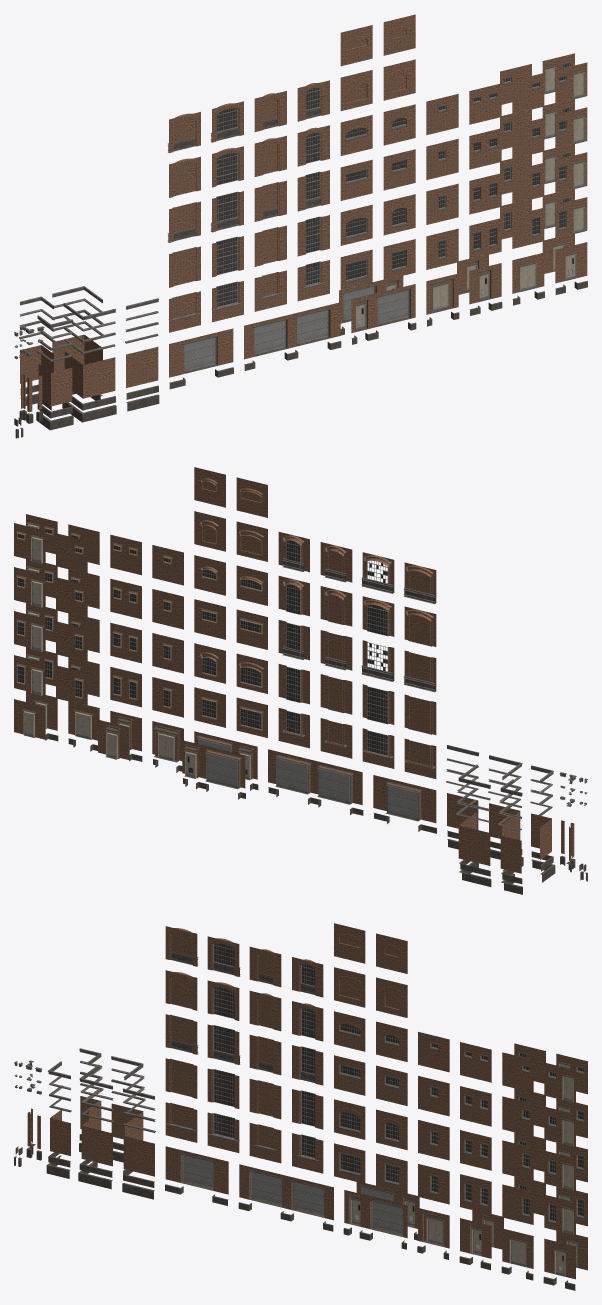
File: modular_factory_facade.glb
The picture shows the model from 3 angles, top to bottom: view 1: azimuth 30°, elevation 25°; view 2: azimuth 150°, elevation 25°; view 3: azimuth 330°, elevation 25°; orthographic projection.
Visible parts, largest first — view 1: door_garage_double_01, wall_standard_corner_large_01, wall_door_garage_double_01, door_garage_door_01, wall_door_garage_centered_01, wall_window_centered_medium_05, wall_window_tall_small_09, wall_standard_standard_01, wall_window_centered_large_05, wall_window_centered_medium_06, wall_window_tall_small_07, wall_window_centered_large_06 (+57 smaller); view 2: door_garage_double_01, door_garage_door_02, wall_door_garage_double_01, wall_door_garage_centered_01, wall_standard_corner_large_02, wall_window_tall_large_09, wall_window_tall_small_09, wall_window_tall_large_07, wall_window_tall_small_07, wall_window_tall_small_06, wall_window_tall_large_06, wall_window_centered_medium_06 (+62 smaller); view 3: door_garage_double_01, wall_door_garage_double_01, door_garage_door_01, wall_door_garage_centered_01, wall_standard_corner_large_01, wall_window_tall_large_09, wall_window_tall_large_07, wall_window_tall_small_07, wall_window_tall_small_09, wall_window_tall_small_06, wall_window_centered_large_05, wall_window_tall_large_06 (+67 smaller).
Boxes of the visible parts, bbox=[...] form: door_garage_double_01: bbox=[253, 307, 331, 356]; wall_standard_corner_large_01: bbox=[64, 352, 115, 398]; wall_door_garage_double_01: bbox=[244, 302, 340, 359]; door_garage_door_01: bbox=[355, 288, 412, 331]; wall_door_garage_centered_01: bbox=[169, 328, 233, 377]; wall_window_centered_medium_05: bbox=[383, 59, 415, 100]; wall_window_tall_small_09: bbox=[254, 135, 286, 176]; wall_standard_standard_01: bbox=[126, 347, 158, 387]; wall_window_centered_large_05: bbox=[340, 70, 372, 110]; wall_window_centered_medium_06: bbox=[383, 14, 415, 55]; wall_window_tall_small_07: bbox=[254, 225, 286, 266]; wall_window_centered_large_06: bbox=[340, 25, 372, 66]; door_garage_double_01: bbox=[275, 754, 353, 804]; door_garage_door_02: bbox=[184, 744, 241, 789]; wall_door_garage_double_01: bbox=[268, 749, 362, 805]; wall_door_garage_centered_01: bbox=[373, 775, 436, 822]; wall_standard_corner_large_02: bbox=[458, 812, 490, 865]; wall_window_tall_large_09: bbox=[404, 606, 436, 646]; wall_window_tall_small_09: bbox=[320, 586, 352, 626]; wall_window_tall_large_07: bbox=[404, 694, 436, 734]; wall_window_tall_small_07: bbox=[320, 674, 352, 714]; wall_window_tall_small_06: bbox=[320, 718, 352, 758]; wall_window_tall_large_06: bbox=[404, 738, 436, 778]; wall_window_centered_medium_06: bbox=[194, 467, 225, 507]; door_garage_double_01: bbox=[248, 1169, 324, 1217]; wall_door_garage_double_01: bbox=[239, 1164, 333, 1220]; door_garage_door_01: bbox=[348, 1194, 403, 1236]; wall_door_garage_centered_01: bbox=[165, 1146, 228, 1194]; wall_standard_corner_large_01: bbox=[81, 1112, 112, 1166]; wall_window_tall_large_09: bbox=[165, 970, 197, 1010]; wall_window_tall_large_07: bbox=[165, 1058, 197, 1098]; wall_window_tall_small_07: bbox=[249, 1079, 281, 1119]; wall_window_tall_small_09: bbox=[249, 991, 281, 1031]; wall_window_tall_small_06: bbox=[249, 1123, 281, 1163]; wall_window_centered_large_05: bbox=[334, 967, 365, 1007]; wall_window_tall_large_06: bbox=[165, 1102, 197, 1142].
Bounding box in the file's own units: 53.33 × 29 × 5.36.
Materials: 6 (6 with a texture image).
